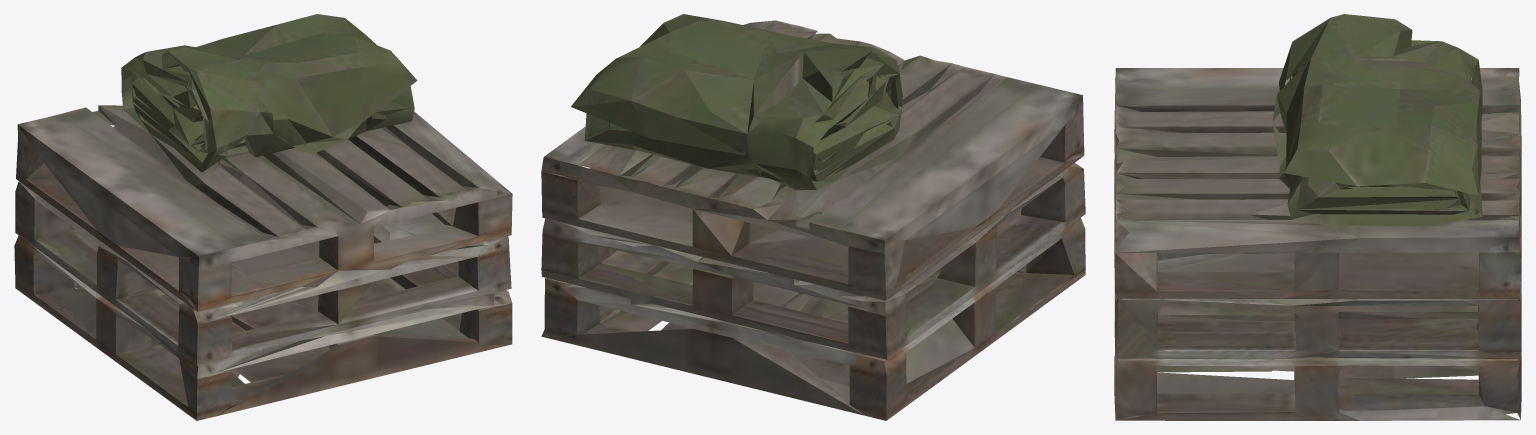
File: deco_palettes.glb
The picture shows the model from 3 angles, left to right: view 1: azimuth 30°, elevation 25°; view 2: azimuth 150°, elevation 25°; view 3: azimuth 270°, elevation 25°; orthographic projection. The views are drawn at different scales.
Bounding box in the file's own units: 1.9 × 1.48 × 1.9.
Materials: 1 (1 with a texture image).
